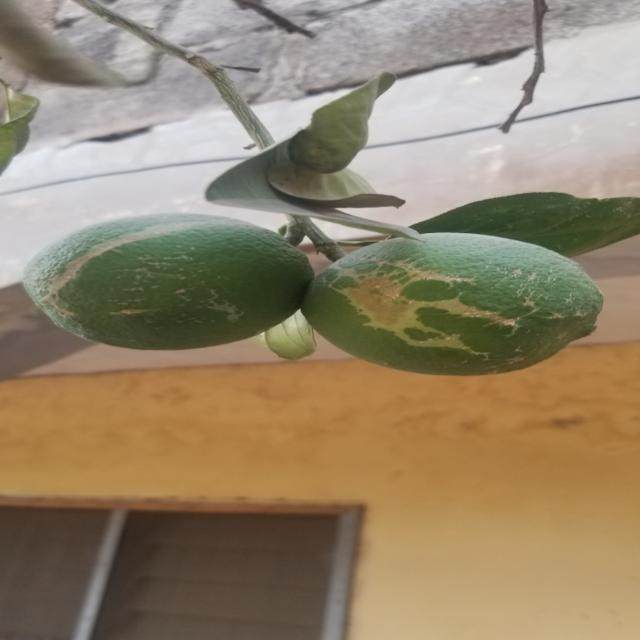Unripe: (307, 233, 594, 381), (13, 211, 314, 351)
